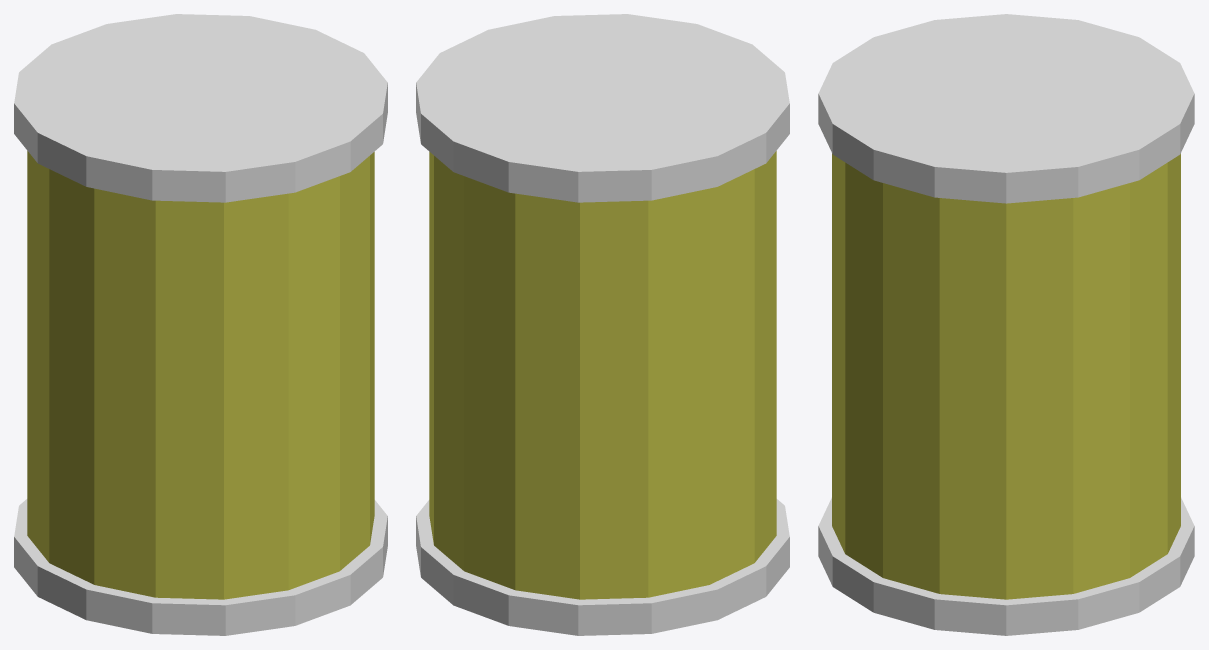
Rendered from i_bananawhey.glb.
The picture shows the model from 3 angles, left to right: view 1: azimuth 30°, elevation 25°; view 2: azimuth 150°, elevation 25°; view 3: azimuth 270°, elevation 25°; orthographic projection.
Parts seen in each view (by area): view 1: Cylinder; view 2: Cylinder; view 3: Cylinder.
Boxes of the visible parts, <box> form: Cylinder: <box>14,14,387,635</box>; Cylinder: <box>416,14,789,635</box>; Cylinder: <box>818,14,1194,635</box>.
Bounding box in the file's own units: 0.6317 × 0.8582 × 0.6317.
